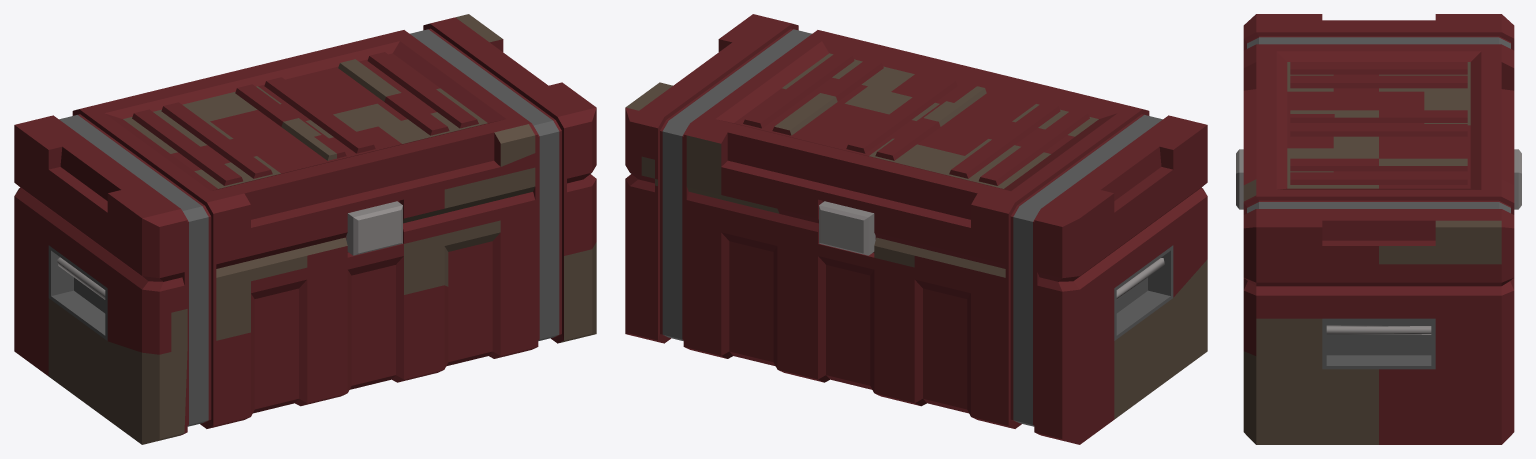
The model's file is chest.glb.
The picture shows the model from 3 angles, left to right: view 1: azimuth 30°, elevation 25°; view 2: azimuth 150°, elevation 25°; view 3: azimuth 270°, elevation 25°; orthographic projection. The views are drawn at different scales.
Parts seen in each view (by area): view 1: Chest_Special; view 2: Chest_Special; view 3: Chest_Special.
Boxes of the visible parts, bbox=[...] form: Chest_Special: bbox=[14, 14, 596, 444]; Chest_Special: bbox=[625, 14, 1207, 444]; Chest_Special: bbox=[1236, 14, 1521, 444].
Bounding box in the file's own units: 0.8524 × 0.4062 × 0.483.
1 material, 1 textured.
